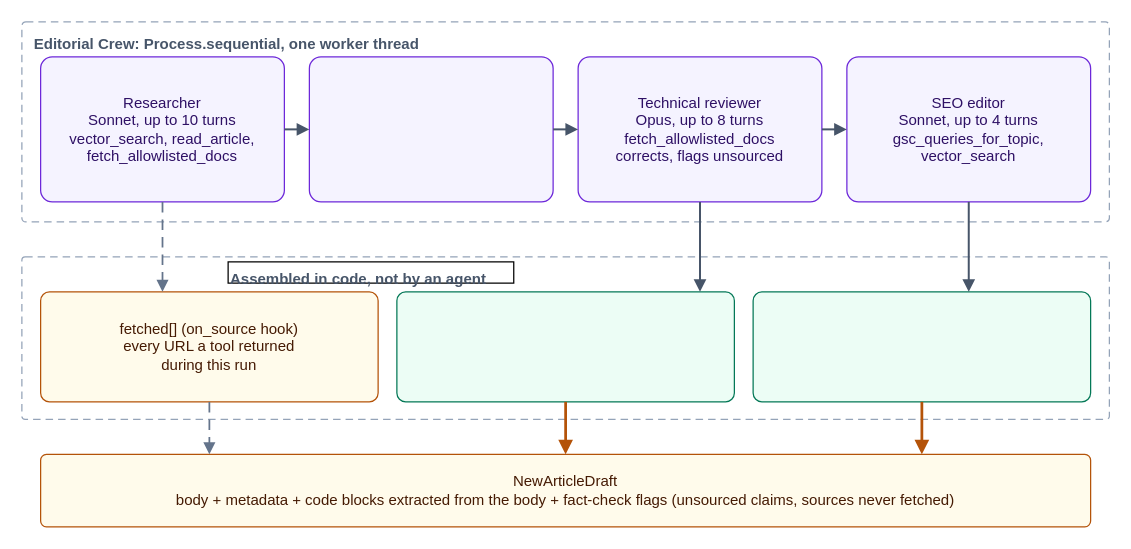
Some shapes in this 1131 by 549 pixel diagram are drawn without their labels. Each missing label, with the centre of its shape:
body_mdx the reviewer's corrected body: text before NEEDS_FACT_CHECK:: the point at 565,346
SeoMetadata (Pydantic) title, slug, meta, outline, sources, links: never a body: the point at 921,346
Technical writer Opus, up to 6 turns read_article writes the full MDX body: the point at 430,129
